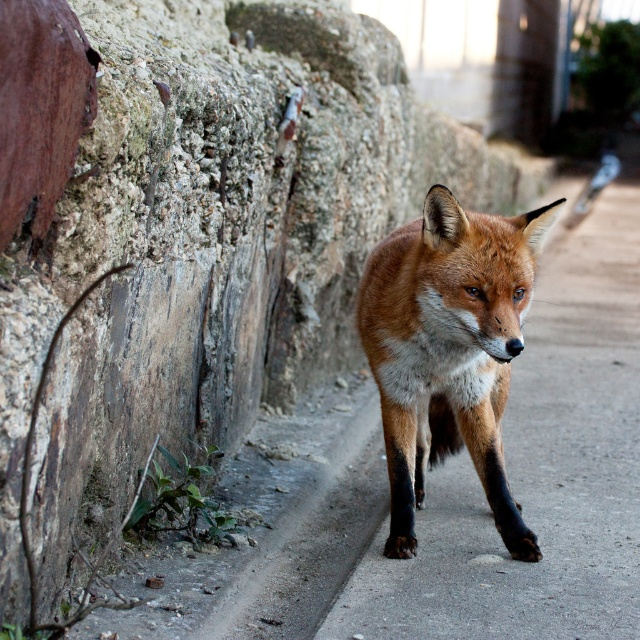Fox: (351, 182, 567, 565)
